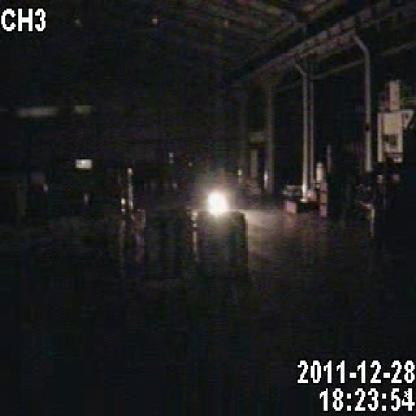fire: (195, 162, 248, 232)
